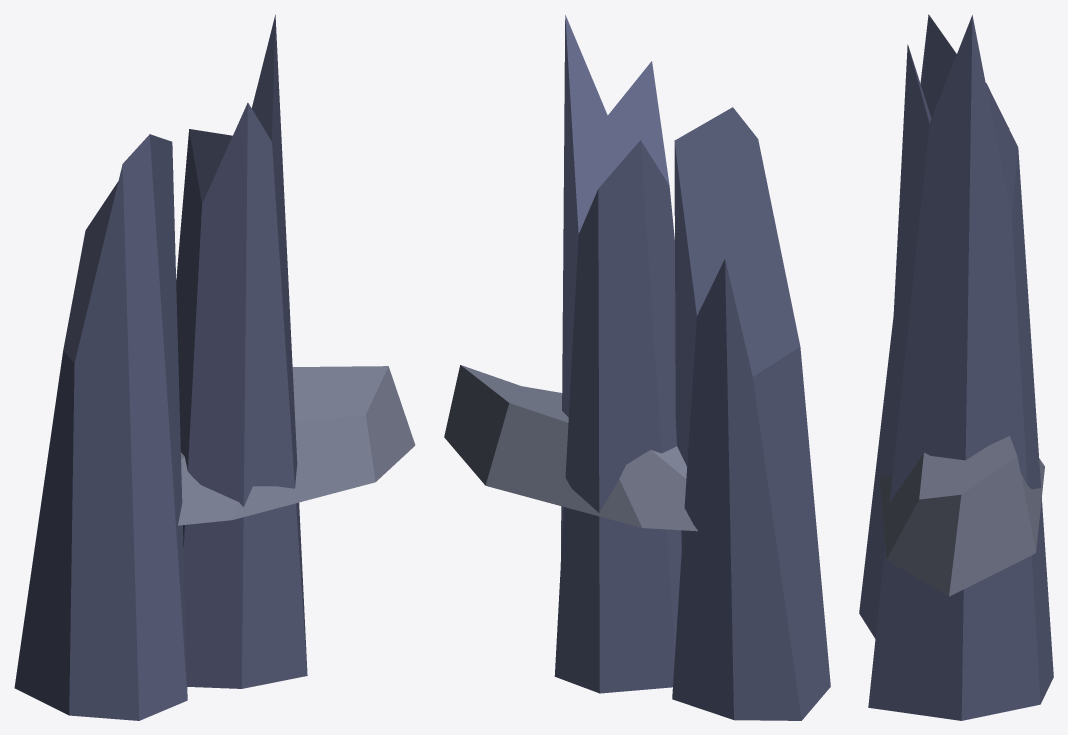
File: map-boundaries-v5__highland_11.glb
3 renders of one model, left to right at view 1: azimuth 30°, elevation 25°; view 2: azimuth 150°, elevation 25°; view 3: azimuth 270°, elevation 25°, orthographic. The views are drawn at different scales.
Parts seen in each view (by area): view 1: highland_11; view 2: highland_11; view 3: highland_11.
Boxes of the visible parts, left/top/right/bottom form: highland_11: left=14, top=14, right=415, bottom=720; highland_11: left=444, top=15, right=830, bottom=720; highland_11: left=859, top=14, right=1053, bottom=720.
Size of the model in its own units: 1.51 by 2.4 by 0.6044.
